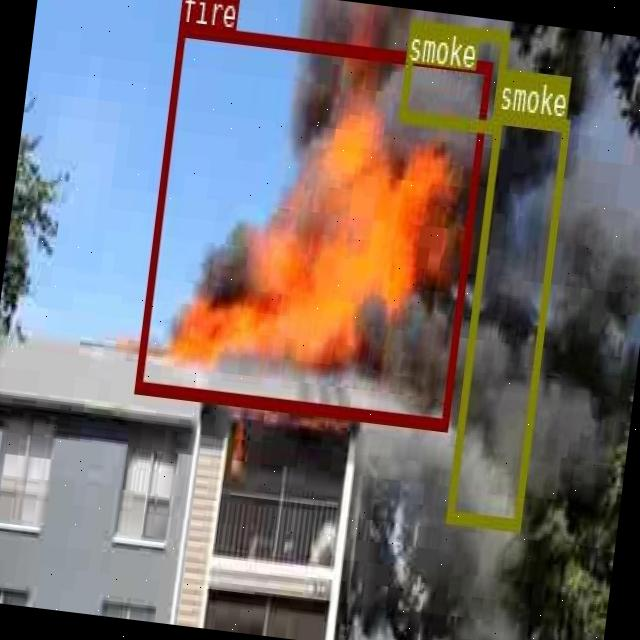fire: (133, 22, 491, 430)
smoke: (444, 109, 568, 526), (398, 20, 508, 131)
